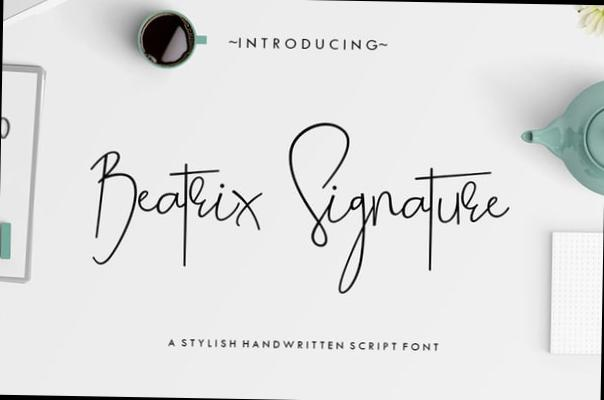text: (87, 114, 514, 302), (165, 336, 441, 353), (227, 36, 391, 52)
